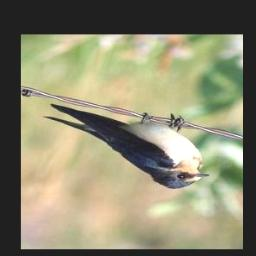Swallow: (43, 100, 212, 191)
